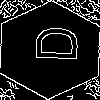D: (25, 25, 78, 62)
